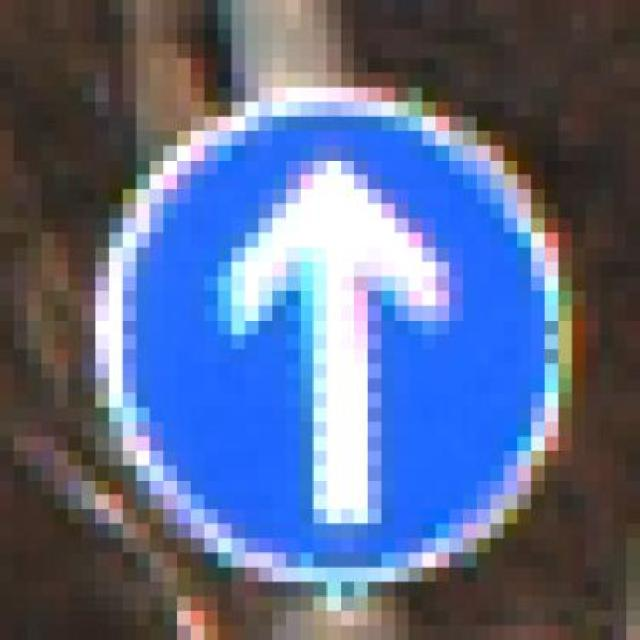Straight Ahead Only: (68, 87, 586, 582)
